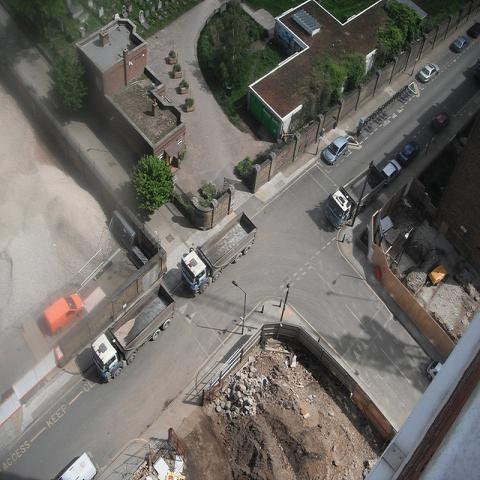car: (58, 448, 103, 474), (321, 137, 348, 165), (395, 140, 419, 168), (429, 105, 451, 134), (380, 158, 401, 185), (418, 62, 440, 84), (426, 360, 442, 380), (453, 35, 470, 53), (468, 22, 480, 38)
truck: (90, 283, 176, 381), (181, 212, 256, 296), (324, 162, 385, 230), (42, 292, 85, 337)
